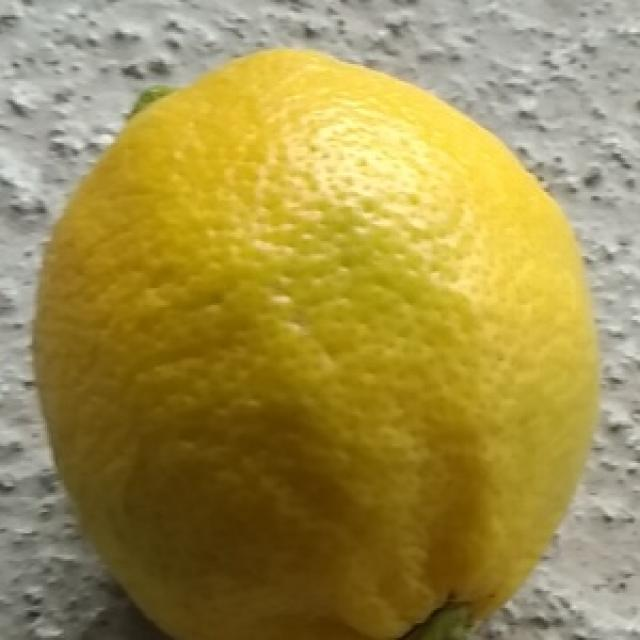Ripe: (30, 37, 608, 640)
